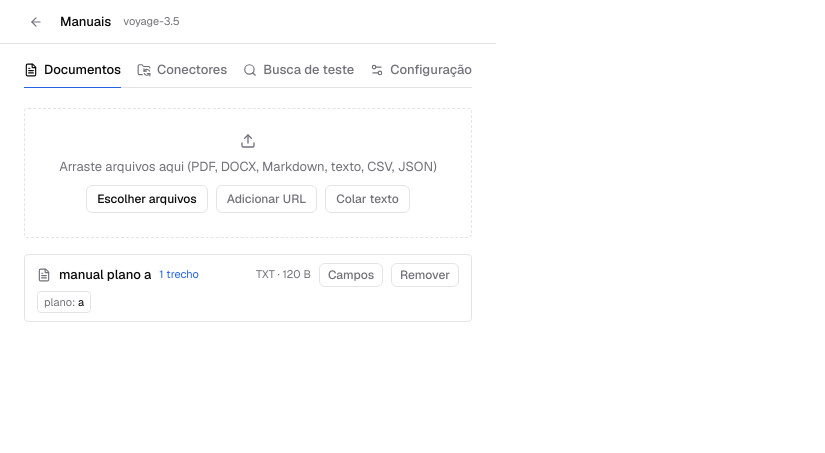
Test case: cross-encoder e filtros › busca de teste manda os filtros e avisa quando caem
Click the tab "Busca de teste" at (299, 70), box [243, 52, 354, 88]
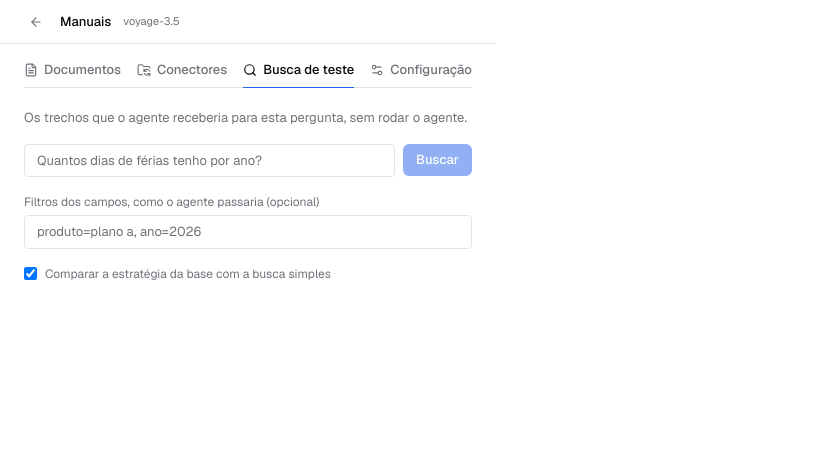
Type "cancelar" into the field named "Pergunta" at (210, 160), box [24, 144, 395, 177]
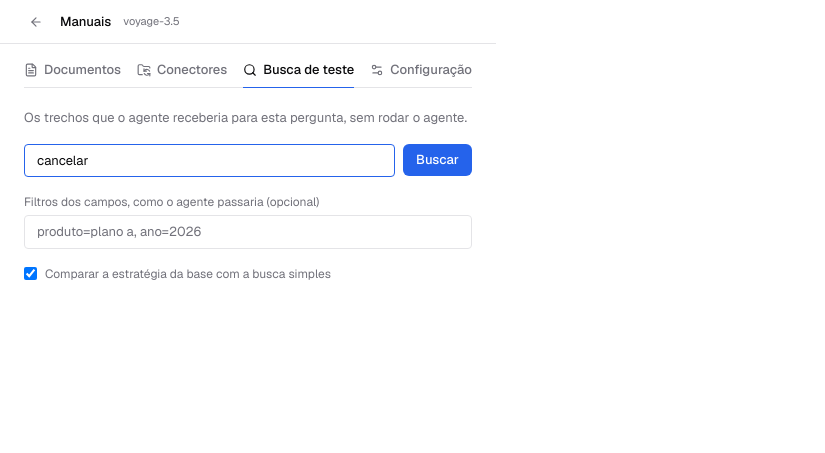
Type "plano=c" into the field with placeholder "produto=plano a, ano=2026" at (248, 232), box [24, 215, 472, 248]
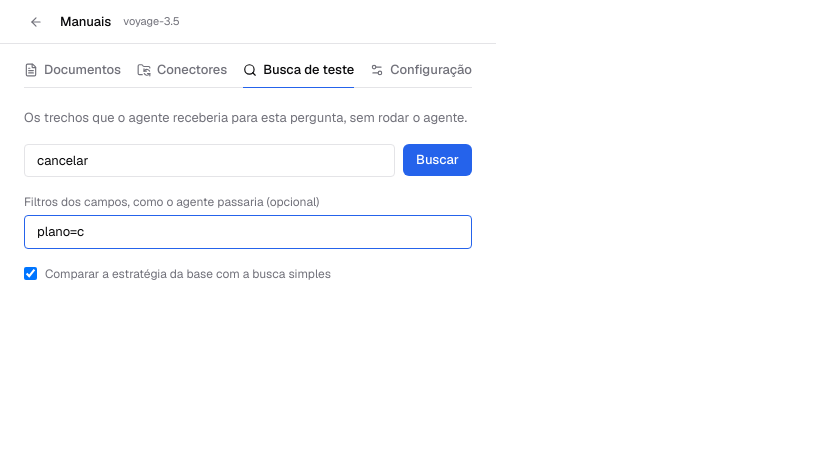
Click the button "Buscar" at (438, 160), box [403, 144, 472, 176]
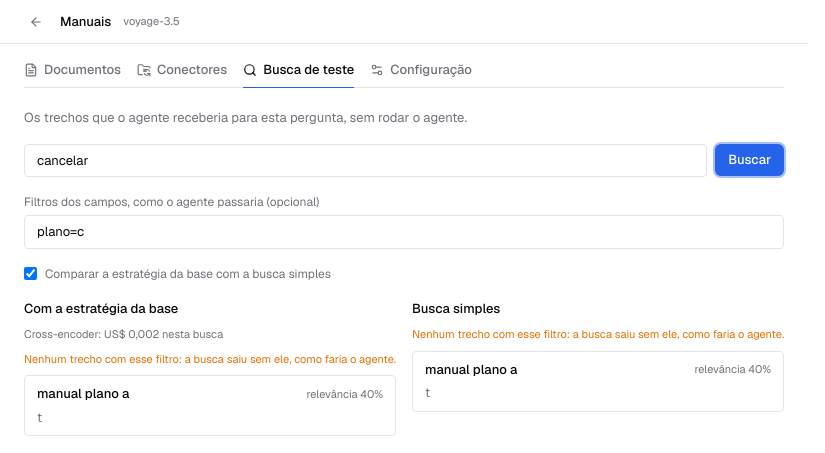
Expected: the text "Cross-encoder: US$ 0,002 nesta busca" is shown, [24, 327, 223, 341]
Expected: the text "a busca saiu sem ele" below "Cross-encoder:" is shown, [24, 352, 396, 366]
